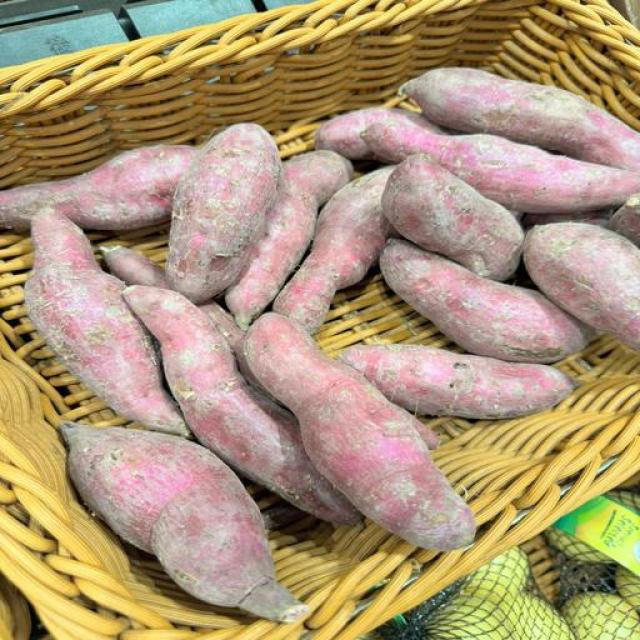organic: (0, 0, 640, 640), (554, 497, 639, 574)
